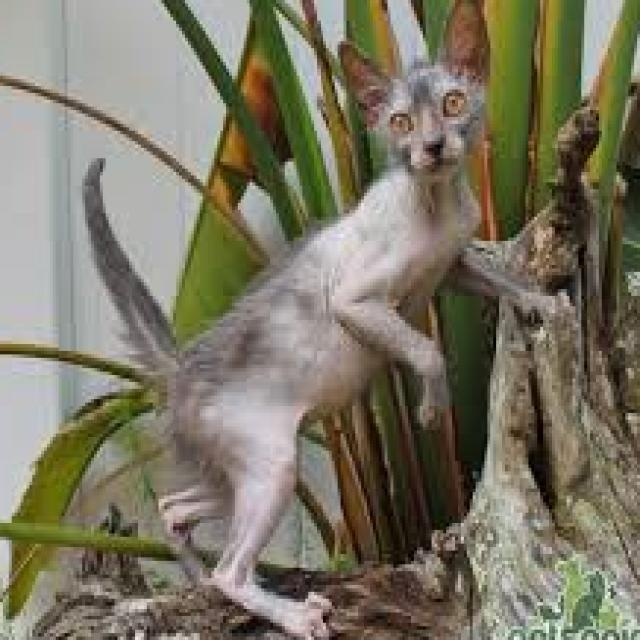Lykoi: (77, 0, 576, 640)
